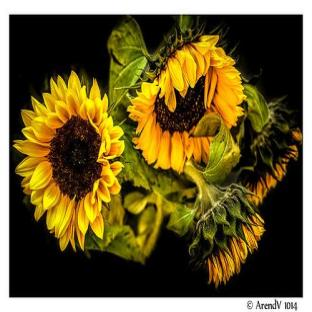sunflower: (13, 71, 125, 253), (130, 39, 244, 173)
